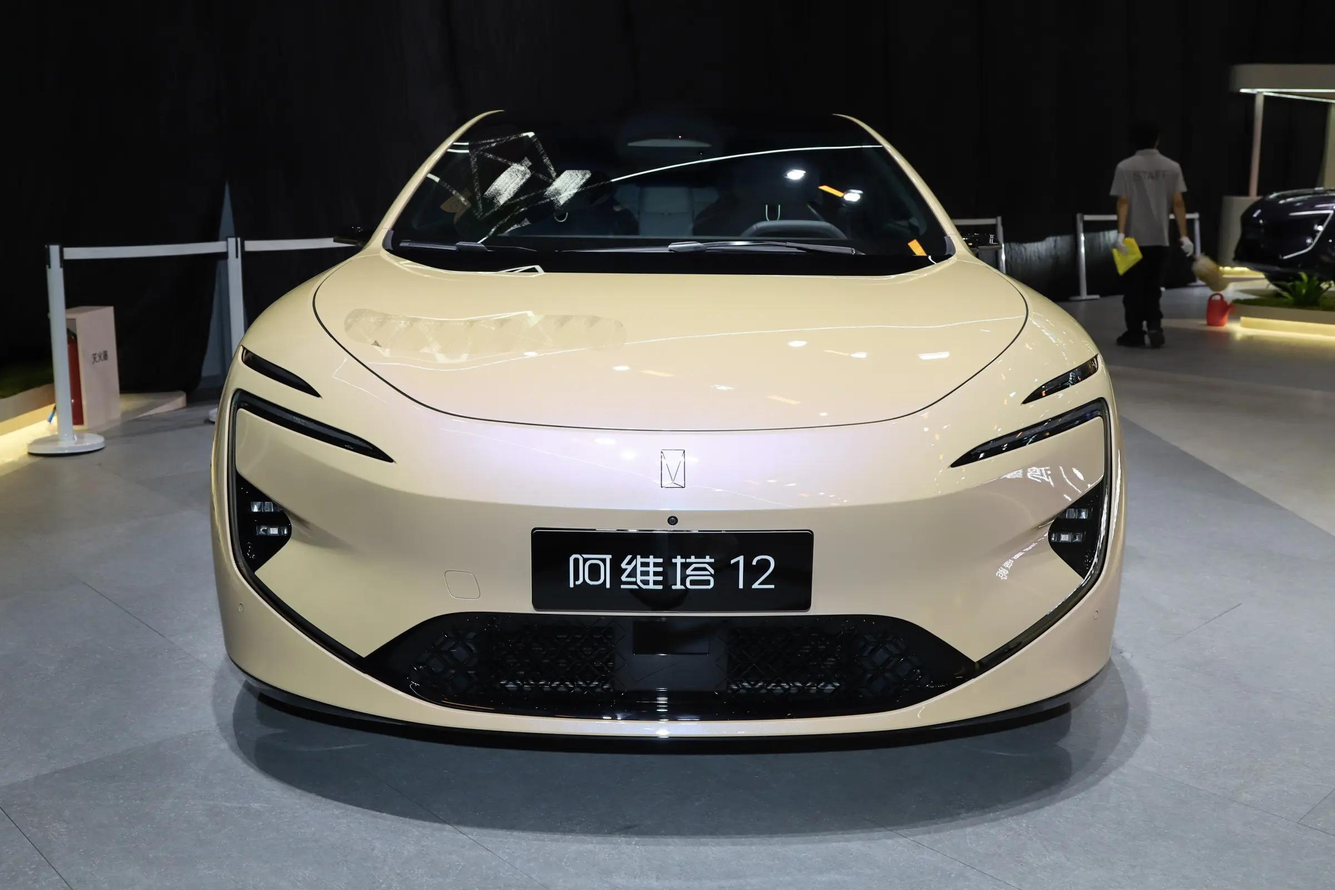AVATR: (661, 449, 685, 488)
